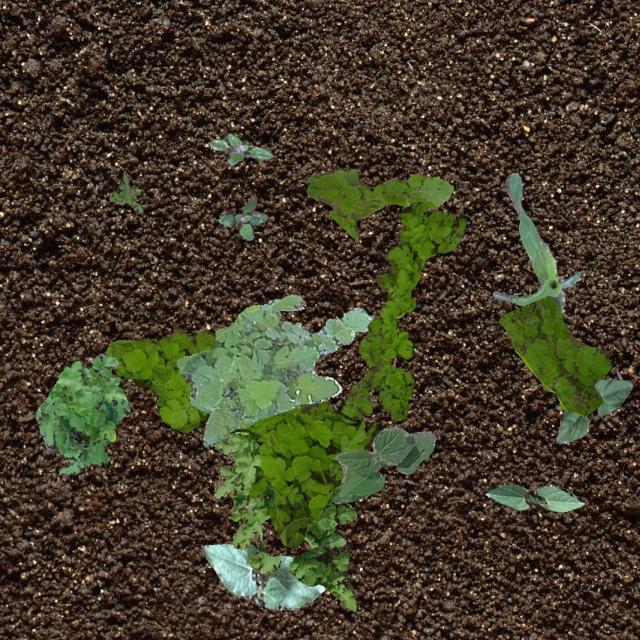crop: (492, 172, 580, 312), (202, 542, 324, 610), (334, 426, 434, 502), (554, 378, 632, 442), (484, 482, 584, 510)
weed: (105, 328, 378, 548), (175, 294, 372, 446), (212, 430, 358, 610), (368, 200, 464, 420), (498, 294, 610, 414), (34, 352, 130, 476), (306, 166, 452, 238), (339, 329, 384, 418), (218, 197, 266, 240), (208, 132, 272, 164), (108, 174, 142, 212)
